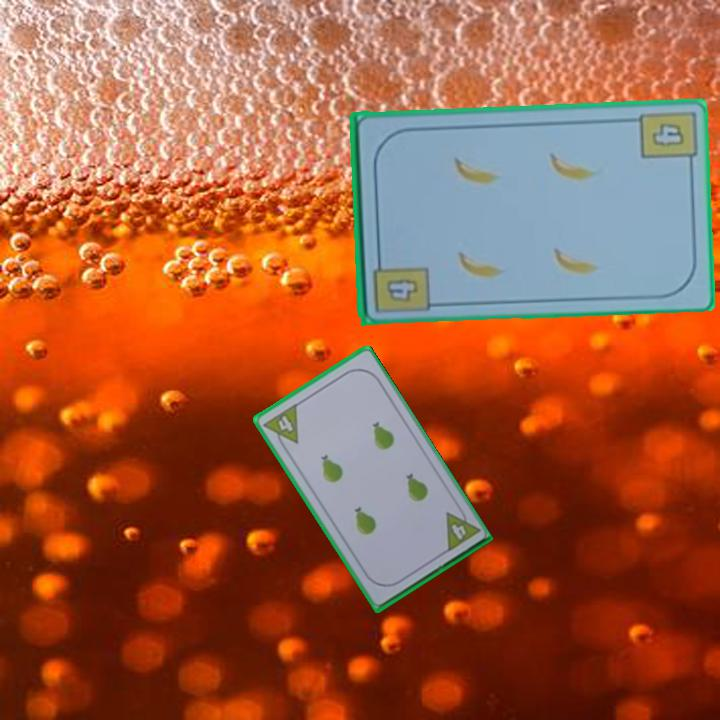4b: (634, 107, 697, 171), (383, 274, 422, 305)
4p: (260, 400, 301, 453), (442, 502, 482, 555)
